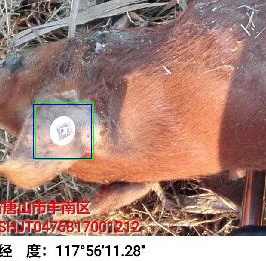text: (35, 102, 93, 159)
